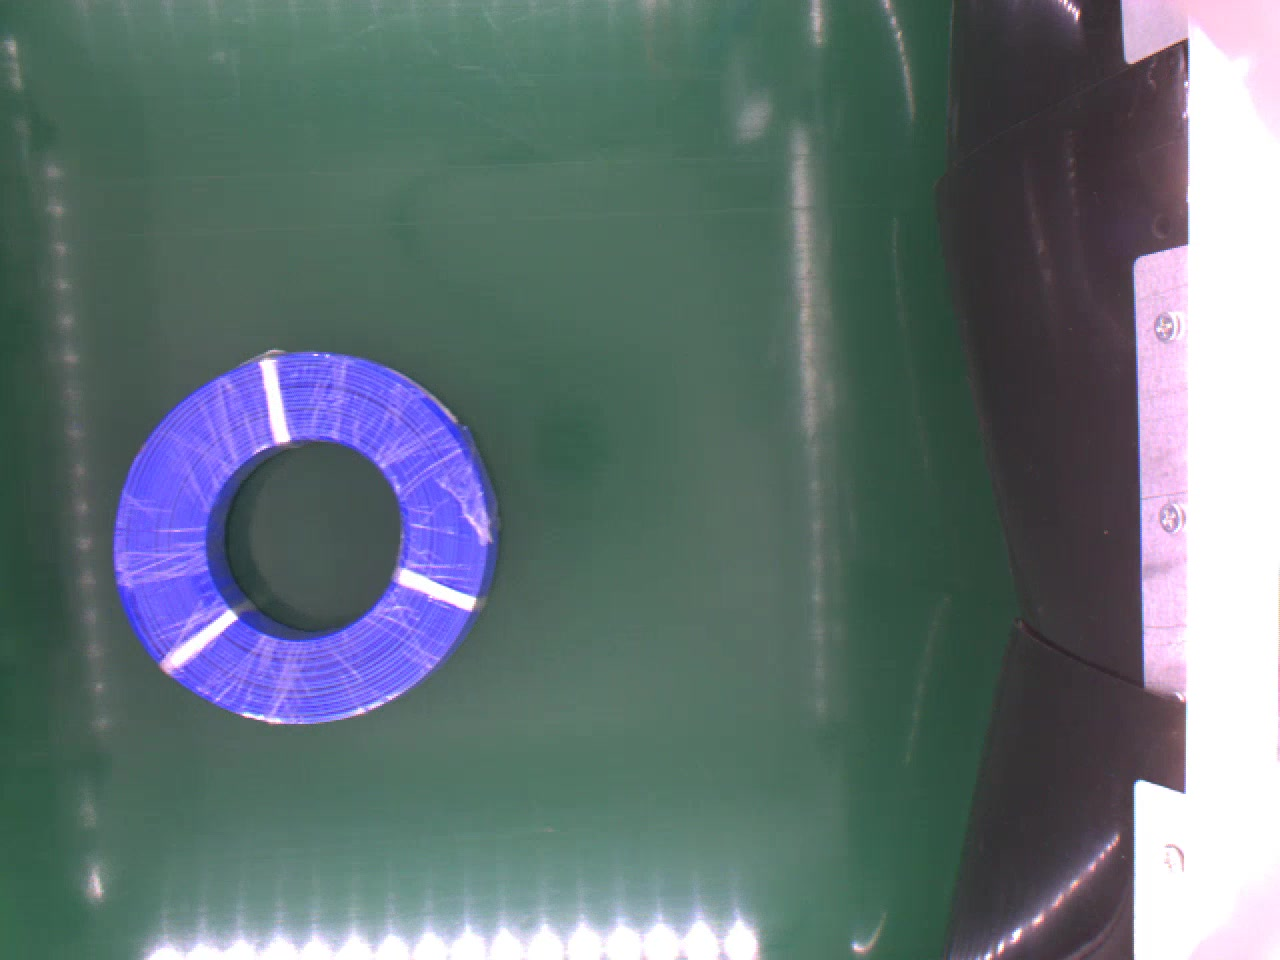blue: (108, 345, 499, 729)
